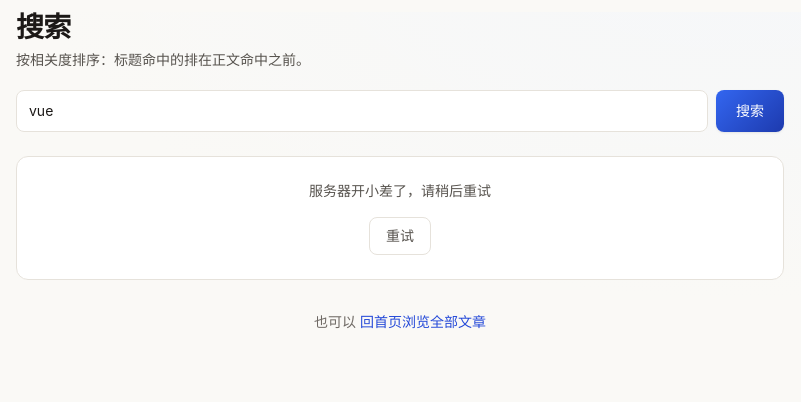
Test: SearchView · 加载与失败 › 点「重试」能真的恢复：重新请求成功后就地渲染结果
Click the button "重试". click: (400, 236)
box: [369, 217, 431, 255]
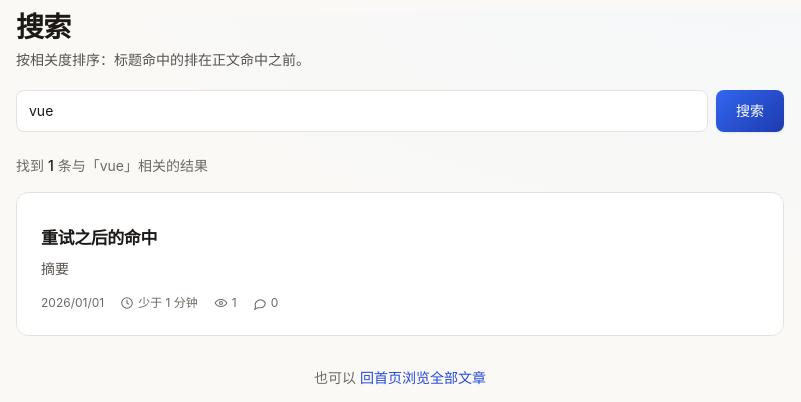
Result: the text "重试之后的命中" is shown at [41, 228, 157, 248]
Result: the text "服务器开小差了" is gone
